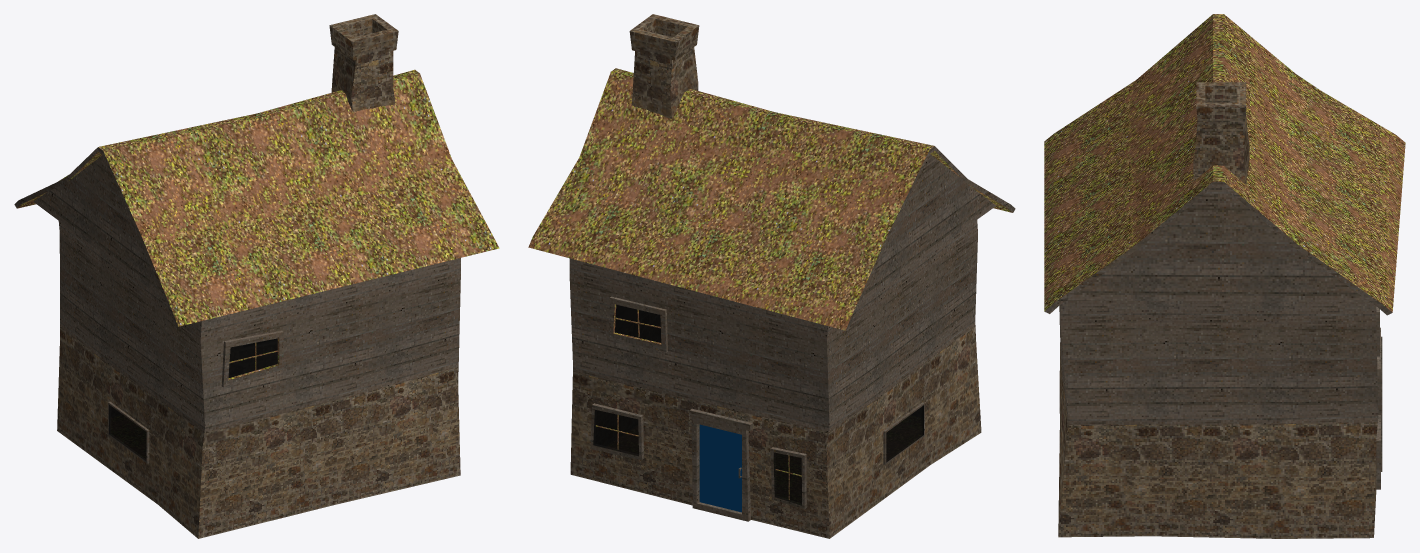
The model's file is GD 3D Home 1 Stylized.fbx.
3 views of the same model, side by side, from view 1: azimuth 30°, elevation 25°; view 2: azimuth 150°, elevation 25°; view 3: azimuth 270°, elevation 25° (orthographic). The views are drawn at different scales.
Parts seen in each view (by area): view 1: Home Basic 3 IVG 3D.002; view 2: Home Basic 3 IVG 3D.002; view 3: Home Basic 3 IVG 3D.002.
Part boxes in pixels (x1=…): Home Basic 3 IVG 3D.002: x1=14, y1=14, x2=499, y2=538; Home Basic 3 IVG 3D.002: x1=528, y1=14, x2=1015, y2=538; Home Basic 3 IVG 3D.002: x1=1044, y1=14, x2=1405, y2=538.
Bounding box in the file's own units: 905 × 1063 × 806.
